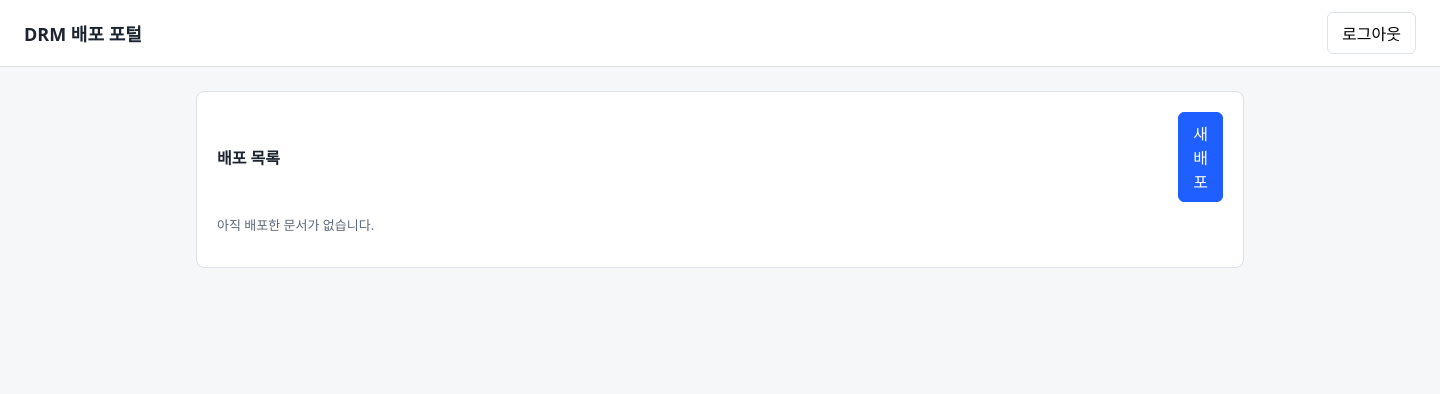
Test case: 로그인 (T1-17) › 로그아웃하면 로그인 화면으로 돌아간다
Expected: the text "아직 배포한 문서가 없습니다." is shown, [217, 216, 374, 234]
Click the button "로그아웃" at (1372, 33), box [1327, 12, 1416, 54]
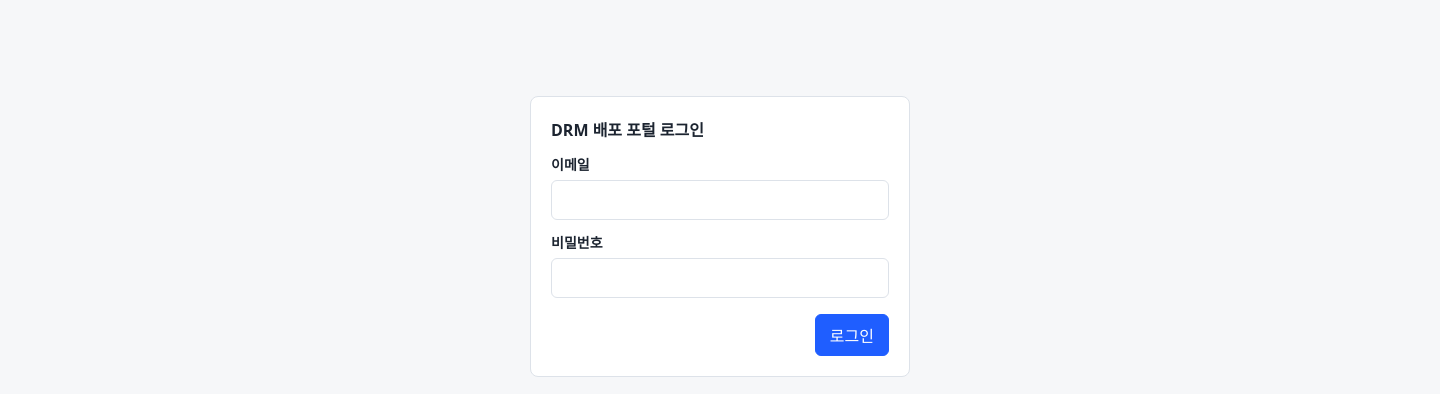
Expected: the form "로그인" is shown, [530, 96, 910, 377]
